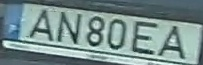0: (105, 17, 128, 51)
8: (84, 14, 106, 47)
A: (154, 23, 186, 59), (25, 8, 55, 42)
E: (130, 19, 159, 56)
N: (55, 10, 83, 45)
